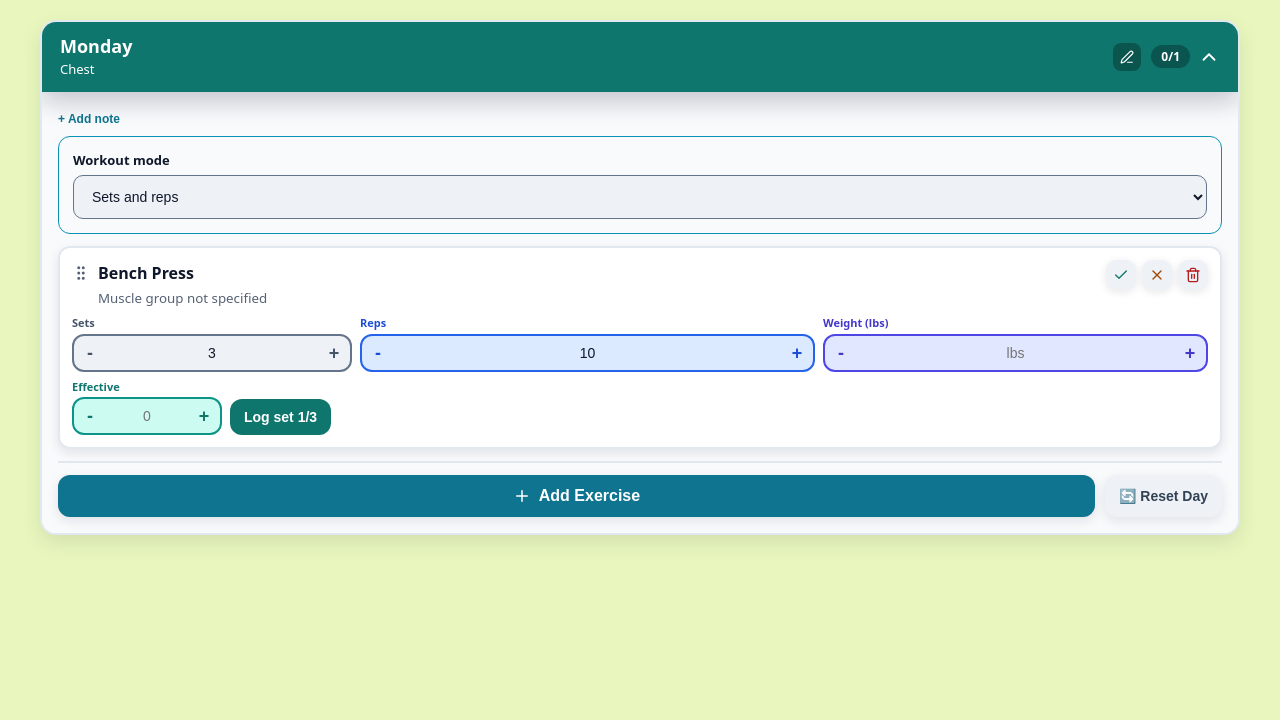
Test: DayAccordion notes › collapses empty notes to a button and opens the textarea on tap
Expected: the field labelled "Notes" is not shown
Click the button "+ Add note" at x=89, y=124, box [58,112,120,136]
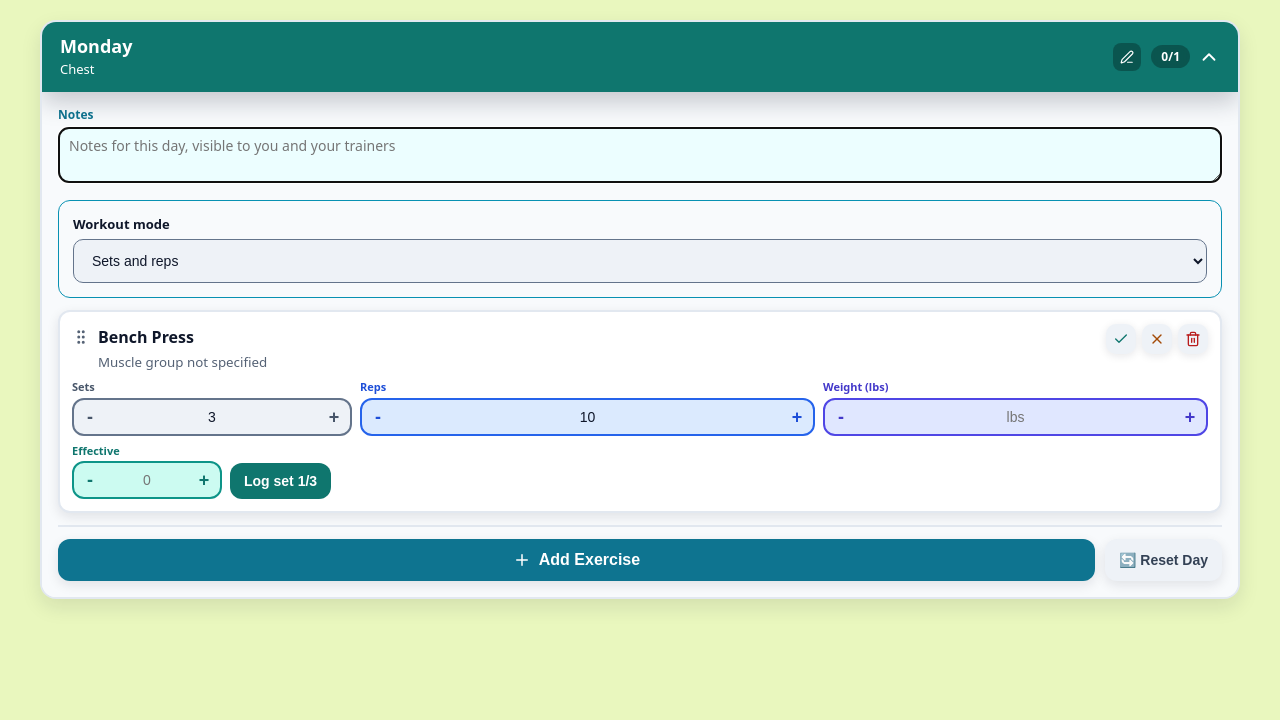
Expected: the text box labelled "Notes" is shown, [58,127,1222,183]
